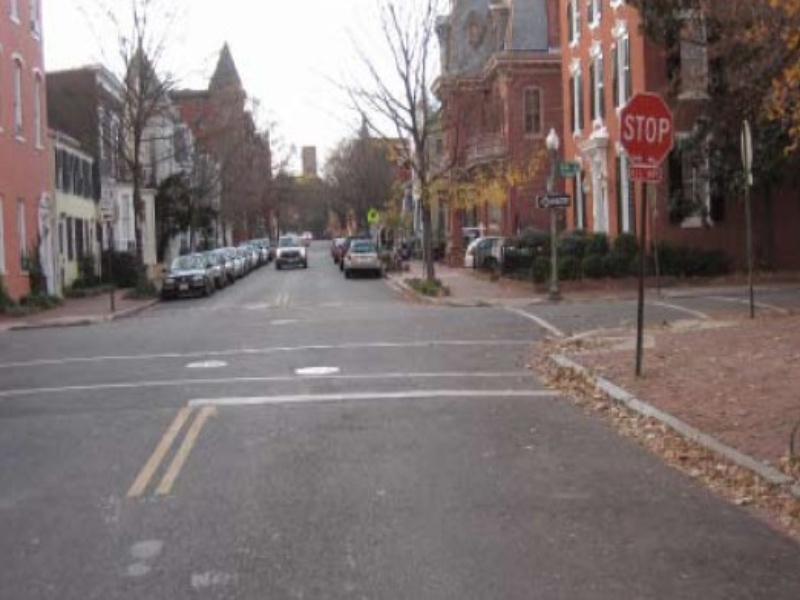stop sign: (616, 90, 675, 168)
